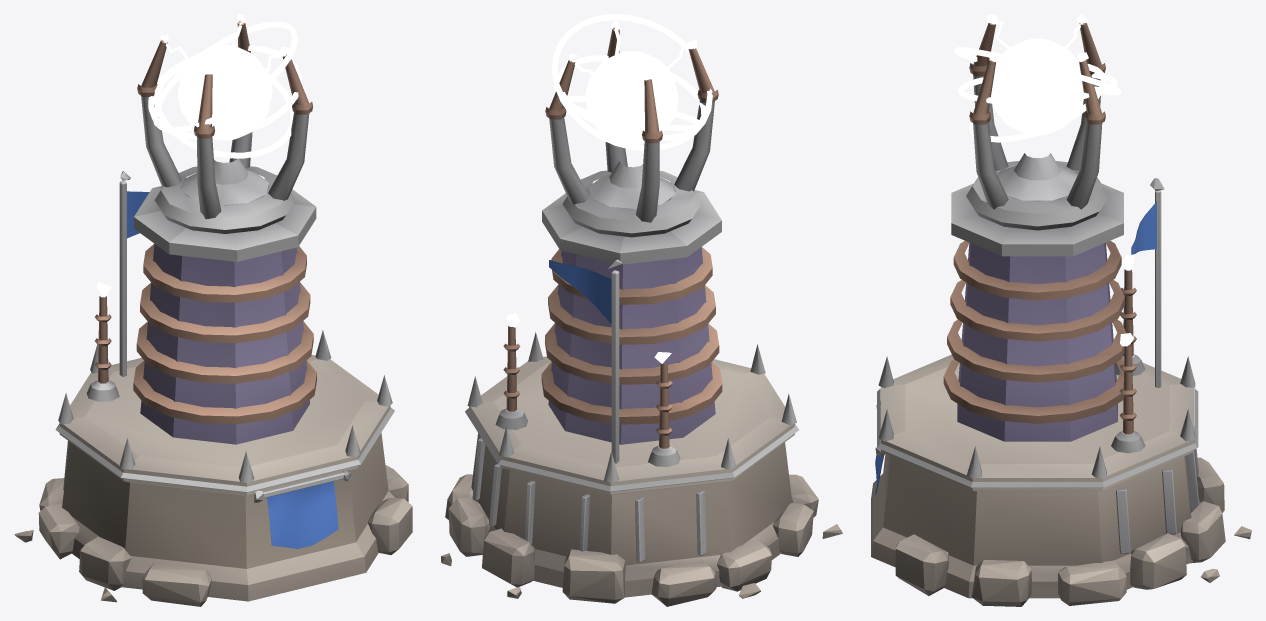
The model's file is spark_1_5.glb.
3 views of the same model, side by side, from view 1: azimuth 30°, elevation 25°; view 2: azimuth 150°, elevation 25°; view 3: azimuth 270°, elevation 25° (orthographic). The views are drawn at different scales.
Visible parts, largest first — view 1: Tower, Turret; view 2: Tower, Turret; view 3: Tower, Turret.
Part boxes in pixels (x1=…): Tower: x1=14, y1=171, x2=412, y2=606; Turret: x1=137, y1=14, x2=313, y2=233; Tower: x1=441, y1=183, x2=842, y2=606; Turret: x1=545, y1=14, x2=718, y2=237; Tower: x1=871, y1=173, x2=1251, y2=606; Turret: x1=954, y1=14, x2=1121, y2=230.
Size of the model in its own units: 3.56 by 5.14 by 3.51.
